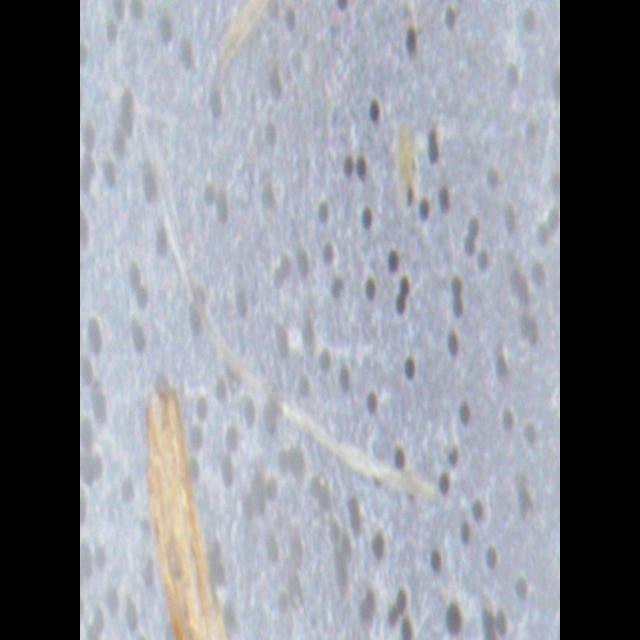Fibre: (135, 87, 455, 521), (140, 385, 228, 639)
